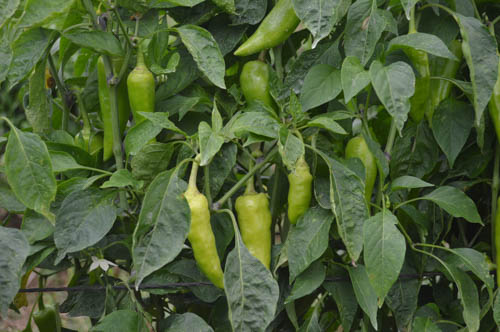ChiliPepper: (178, 194, 229, 292), (231, 2, 305, 54), (94, 56, 129, 158), (233, 195, 275, 277), (345, 135, 380, 222), (238, 59, 277, 120), (128, 71, 161, 143), (288, 165, 314, 228)
